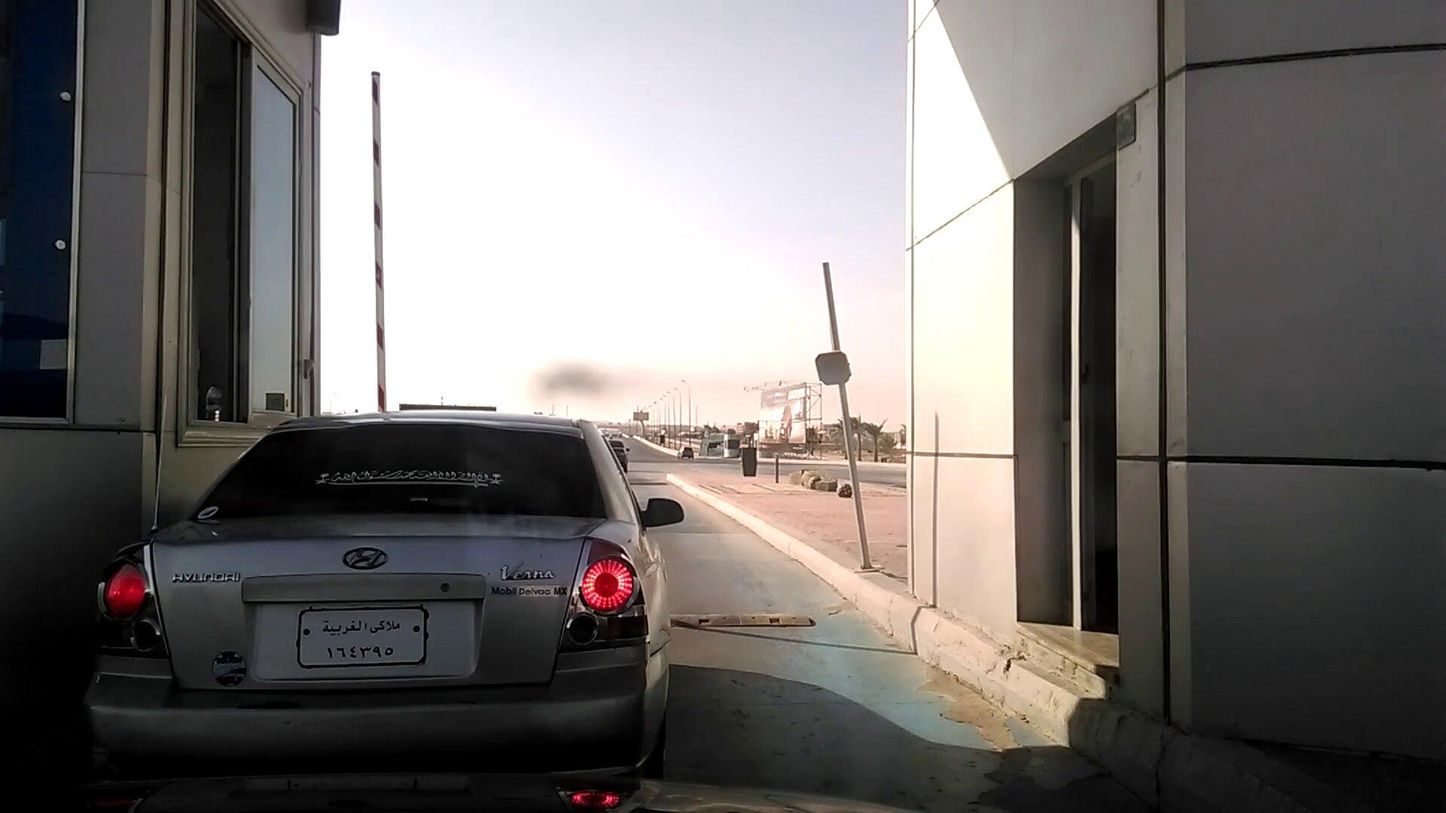Bump: (670, 595, 821, 640)
